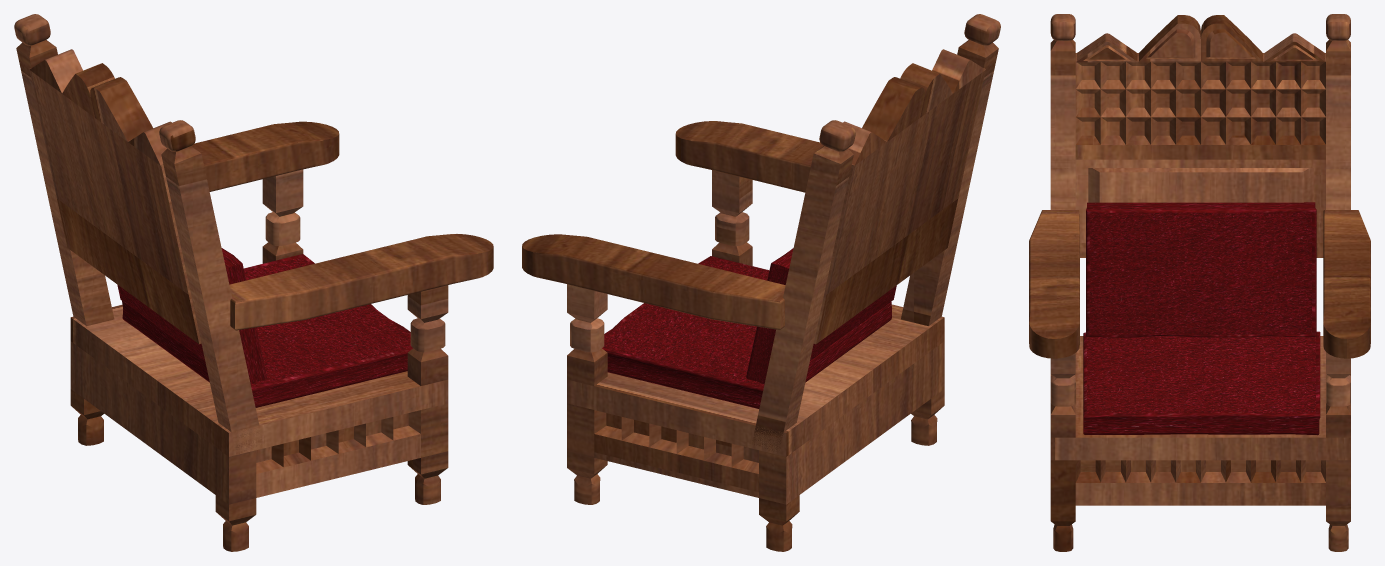
File: SillonMadera02.obj
3 renders of one model, left to right at view 1: azimuth 30°, elevation 25°; view 2: azimuth 150°, elevation 25°; view 3: azimuth 270°, elevation 25°, orthographic. The views are drawn at different scales.
Parts seen in each view (by area): view 1: SillonM1, AlmohadasUno:group102pasted__pCube35, AlmohadasUno:pasted__pasted__pasted__pasted__pCube35pasted__past; view 2: SillonM1, AlmohadasUno:group102pasted__pCube35, AlmohadasUno:pasted__pasted__pasted__pasted__pCube35pasted__past; view 3: SillonM1, AlmohadasUno:pasted__pasted__pasted__pasted__pCube35pasted__past, AlmohadasUno:group102pasted__pCube35.
Part boxes in pixels (box(x1,y1,x2,y2)): SillonM1: box(14, 14, 493, 551); AlmohadasUno:group102pasted__pCube35: box(122, 254, 412, 407); AlmohadasUno:pasted__pasted__pasted__pasted__pCube35pasted__past: box(117, 248, 266, 384); SillonM1: box(522, 14, 1000, 551); AlmohadasUno:group102pasted__pCube35: box(602, 256, 891, 408); AlmohadasUno:pasted__pasted__pasted__pasted__pCube35pasted__past: box(746, 248, 896, 384); SillonM1: box(1029, 14, 1370, 551); AlmohadasUno:pasted__pasted__pasted__pasted__pCube35pasted__past: box(1086, 202, 1316, 337); AlmohadasUno:group102pasted__pCube35: box(1083, 331, 1320, 435).
Bounding box in the file's own units: 0.7162 × 0.9163 × 0.6848.
2 materials, 2 textured.
